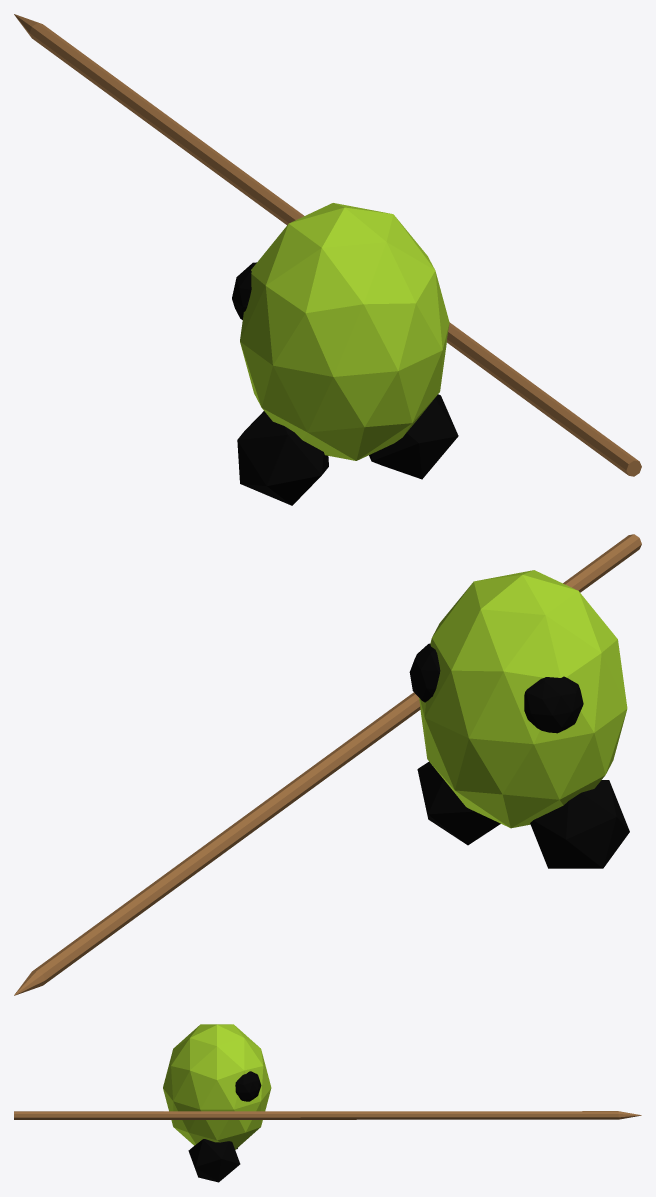
Rendered from walk.f0014.glb.
The picture shows the model from 3 angles, top to bottom: view 1: azimuth 30°, elevation 25°; view 2: azimuth 150°, elevation 25°; view 3: azimuth 270°, elevation 25°; orthographic projection. The views are drawn at different scales.
Parts seen in each view (by area): view 1: Body.001; view 2: Body.001; view 3: Body.001.
Boxes of the visible parts, x1,y1,x2,y2 form: Body.001: (14, 14, 641, 505); Body.001: (14, 534, 641, 995); Body.001: (14, 1024, 641, 1182).
Bounding box in the file's own units: 2.17 × 2.88 × 11.56.
1 material, 1 textured.
